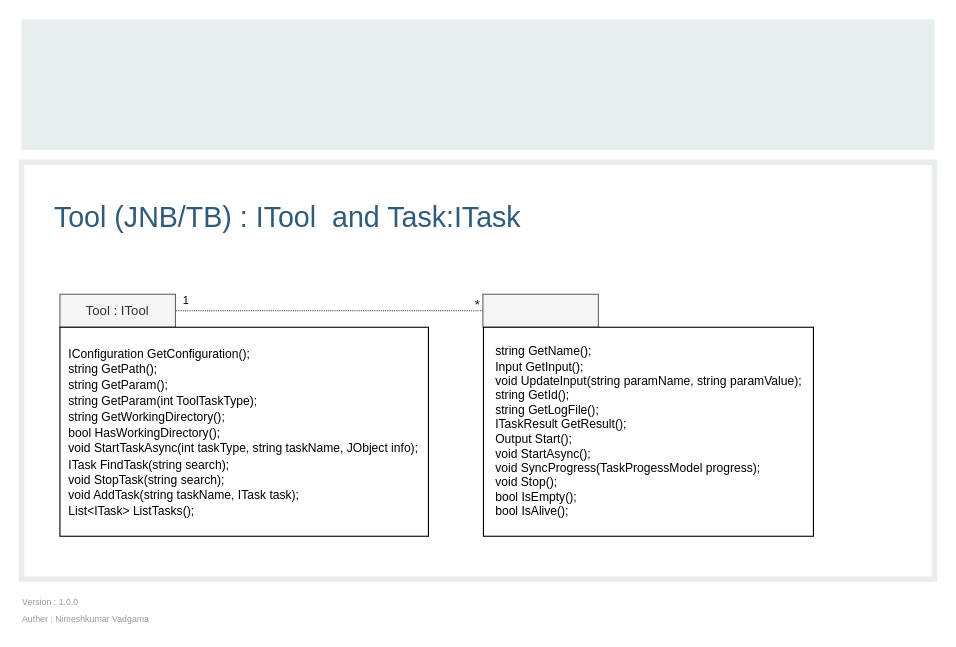
Image size: 956x647. Some labels were removed from this diagram. The centre of each missing label's shape, as x and y in pixels:
MLW + Tools (JNB / TB): [477,84]
Task : ITask: [540,310]
